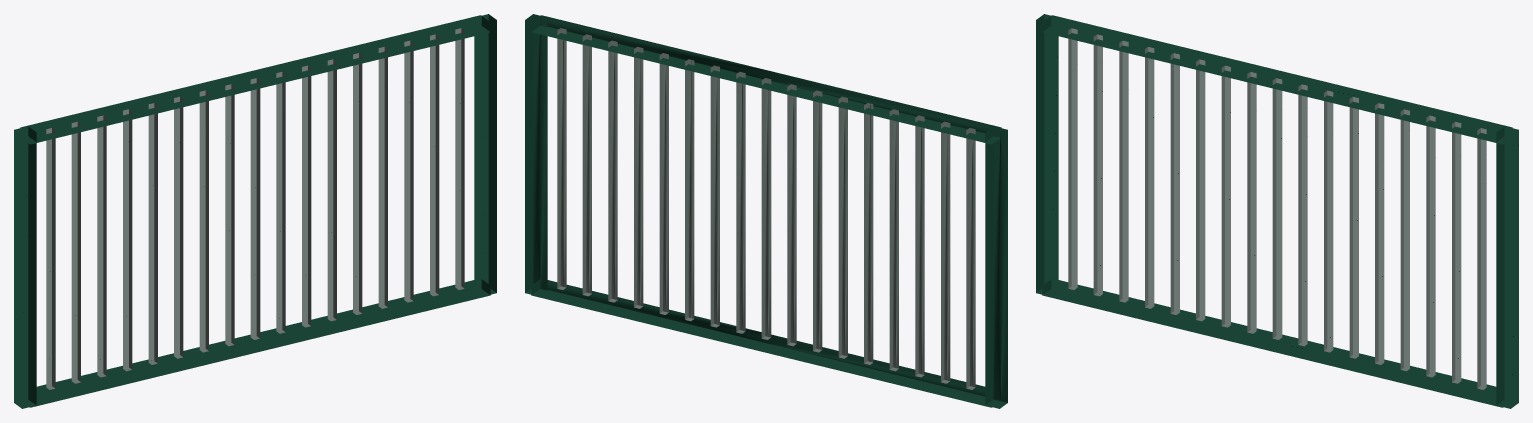
File: ograjca-klasika-6005.glb
3 views of the same model, side by side, from view 1: azimuth 30°, elevation 25°; view 2: azimuth 150°, elevation 25°; view 3: azimuth 330°, elevation 25° (orthographic).
Visible parts, largest first — view 1: Node_palice, Node_kovina; view 2: Node_palice, Node_kovina; view 3: Node_palice, Node_kovina.
Part boxes in pixels (<box>): Node_palice: <box>46,28,464,389</box>; Node_kovina: <box>14,14,496,408</box>; Node_palice: <box>557,28,975,389</box>; Node_kovina: <box>525,14,1007,408</box>; Node_palice: <box>1068,28,1486,389</box>; Node_kovina: <box>1036,14,1518,408</box>.
Bounding box in the file's own units: 2 × 1.1 × 0.072.
